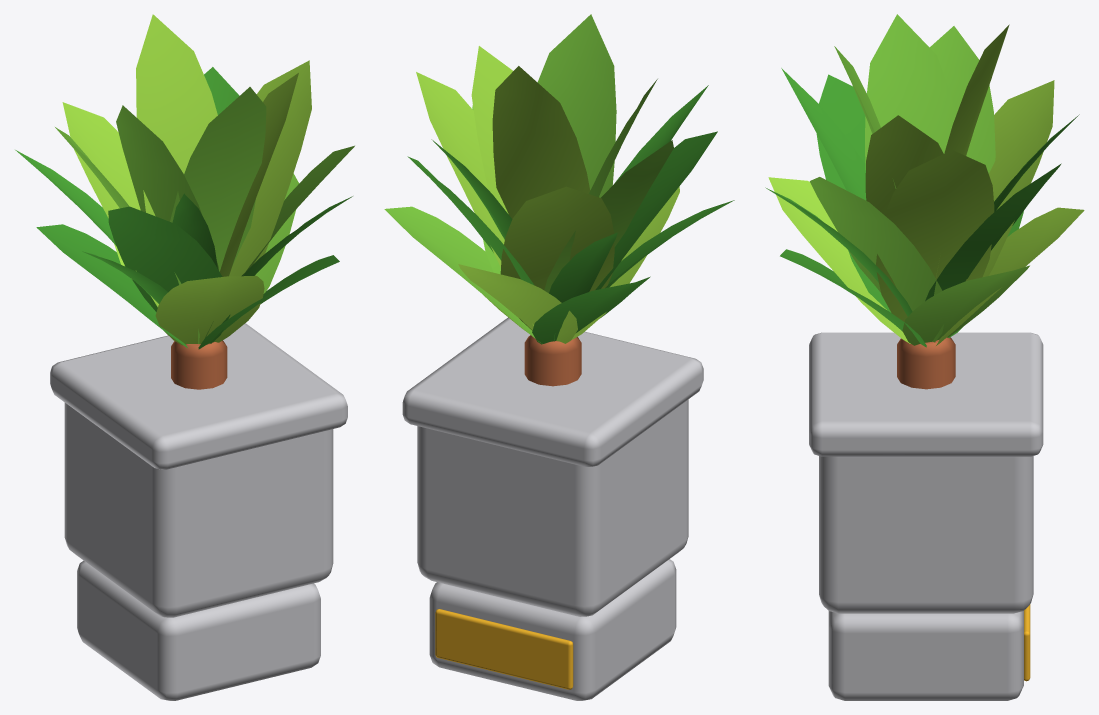
The model's file is prop.props_lounge.plant_tall.glb.
The picture shows the model from 3 angles, left to right: view 1: azimuth 30°, elevation 25°; view 2: azimuth 150°, elevation 25°; view 3: azimuth 270°, elevation 25°; orthographic projection. The views are drawn at different scales.
Parts seen in each view (by area): view 1: prop.props_lounge.plant_tall; view 2: prop.props_lounge.plant_tall; view 3: prop.props_lounge.plant_tall.
Part boxes in pixels (x1,y1,x2,y2): prop.props_lounge.plant_tall: (15, 14, 354, 700); prop.props_lounge.plant_tall: (384, 14, 734, 700); prop.props_lounge.plant_tall: (765, 14, 1084, 700).
Size of the model in its own units: 0.5069 by 1.08 by 0.4931.
